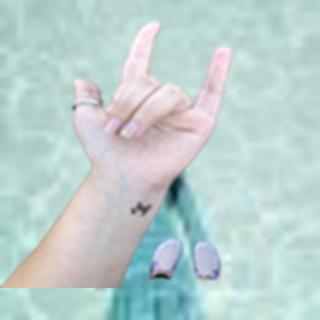ILY: (61, 16, 240, 195)
